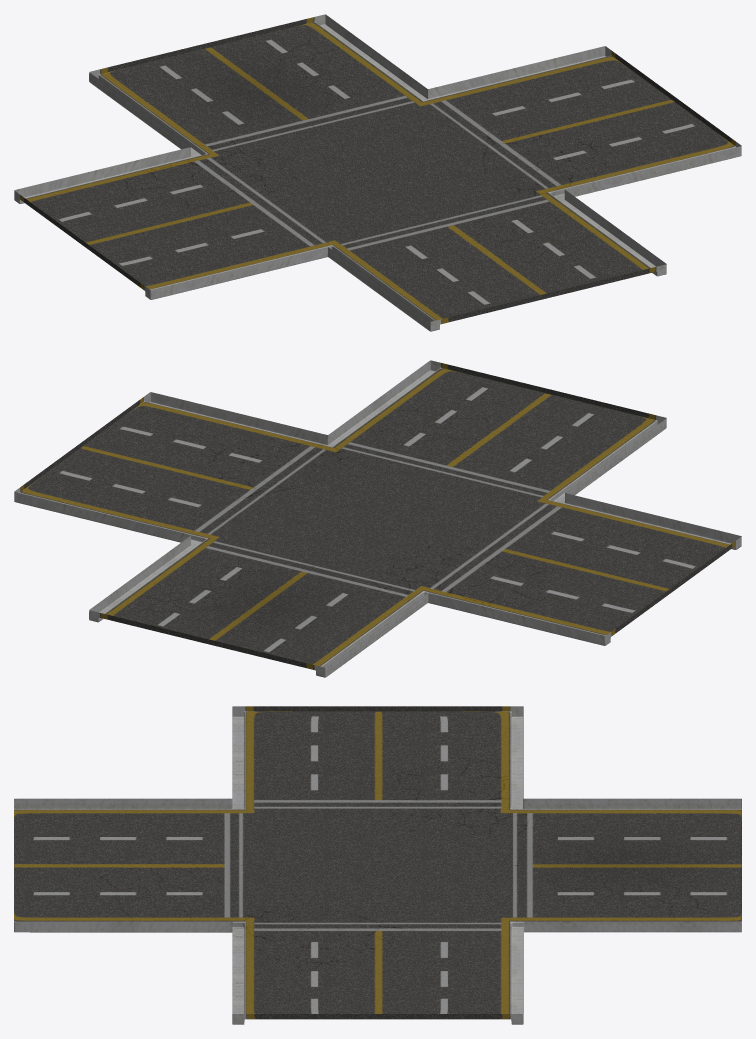
The model's file is crosssectionroad.glb.
The picture shows the model from 3 angles, top to bottom: view 1: azimuth 30°, elevation 25°; view 2: azimuth 150°, elevation 25°; view 3: azimuth 270°, elevation 25°; orthographic projection. The views are drawn at different scales.
Parts seen in each view (by area): view 1: 10562_RoadSectionCross_v2-L3; view 2: 10562_RoadSectionCross_v2-L3; view 3: 10562_RoadSectionCross_v2-L3.
Boxes of the visible parts, x1,y1,x2,y2 form: 10562_RoadSectionCross_v2-L3: (14,14,741,331); 10562_RoadSectionCross_v2-L3: (14,360,741,677); 10562_RoadSectionCross_v2-L3: (14,706,741,1024).
Bounding box in the file's own units: 10.29 × 0.1715 × 10.29.
1 material, 1 textured.
